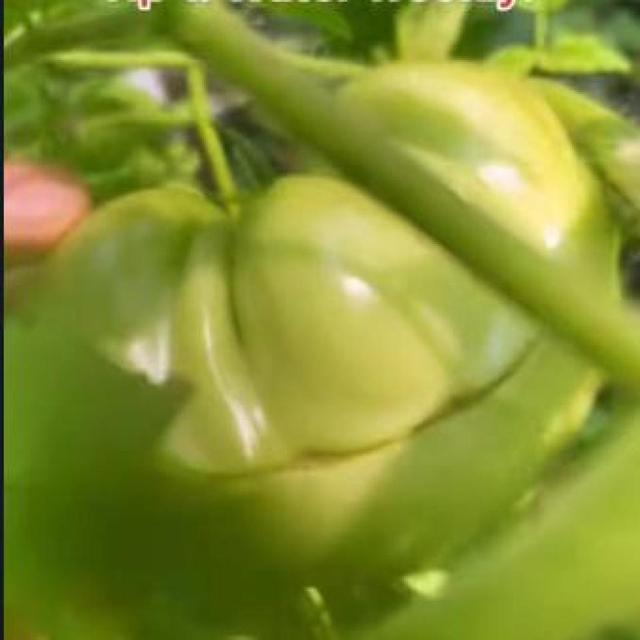Cracking Fruit: (19, 212, 403, 327)
